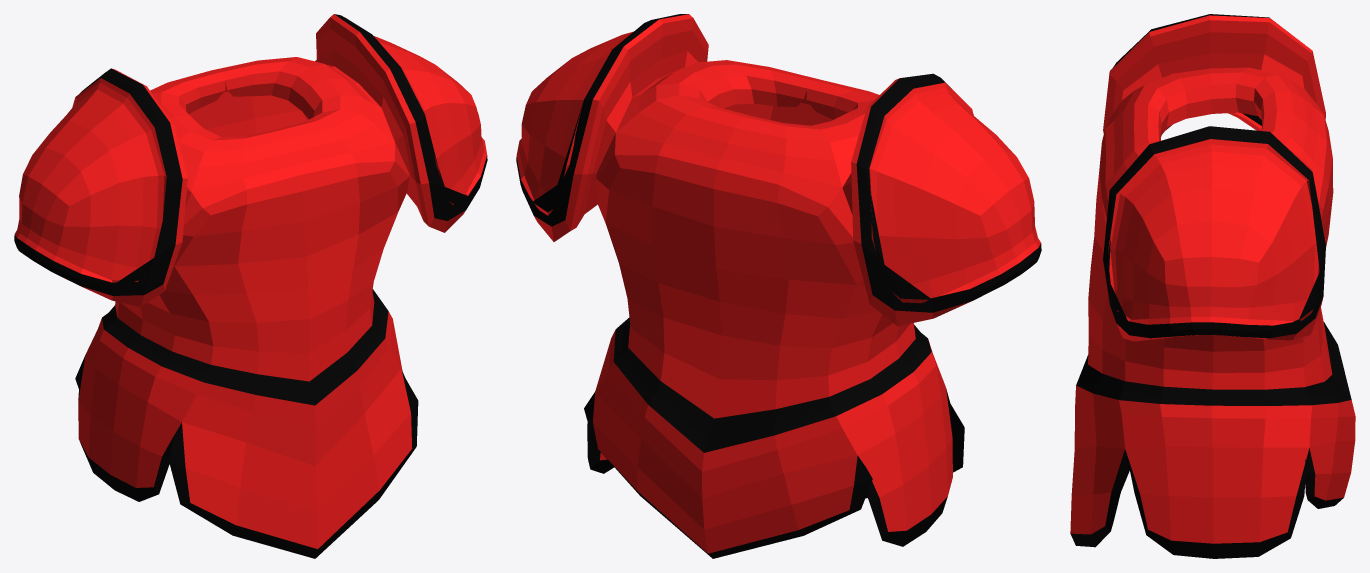
Rendered from ArmorAdamantite.fbx.
The picture shows the model from 3 angles, left to right: view 1: azimuth 30°, elevation 25°; view 2: azimuth 150°, elevation 25°; view 3: azimuth 270°, elevation 25°; orthographic projection. The views are drawn at different scales.
Parts seen in each view (by area): view 1: Body; view 2: Body; view 3: Body.
Boxes of the visible parts, <box> form: Body: <box>14,14,487,558</box>; Body: <box>516,14,1041,558</box>; Body: <box>1070,14,1355,558</box>.
Size of the model in its own units: 481 by 459 by 250.
